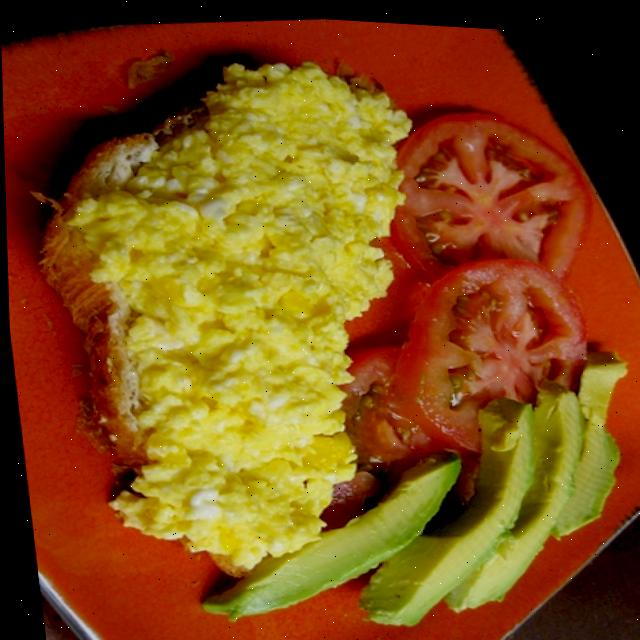鸡蛋料理: (21, 28, 640, 640)
